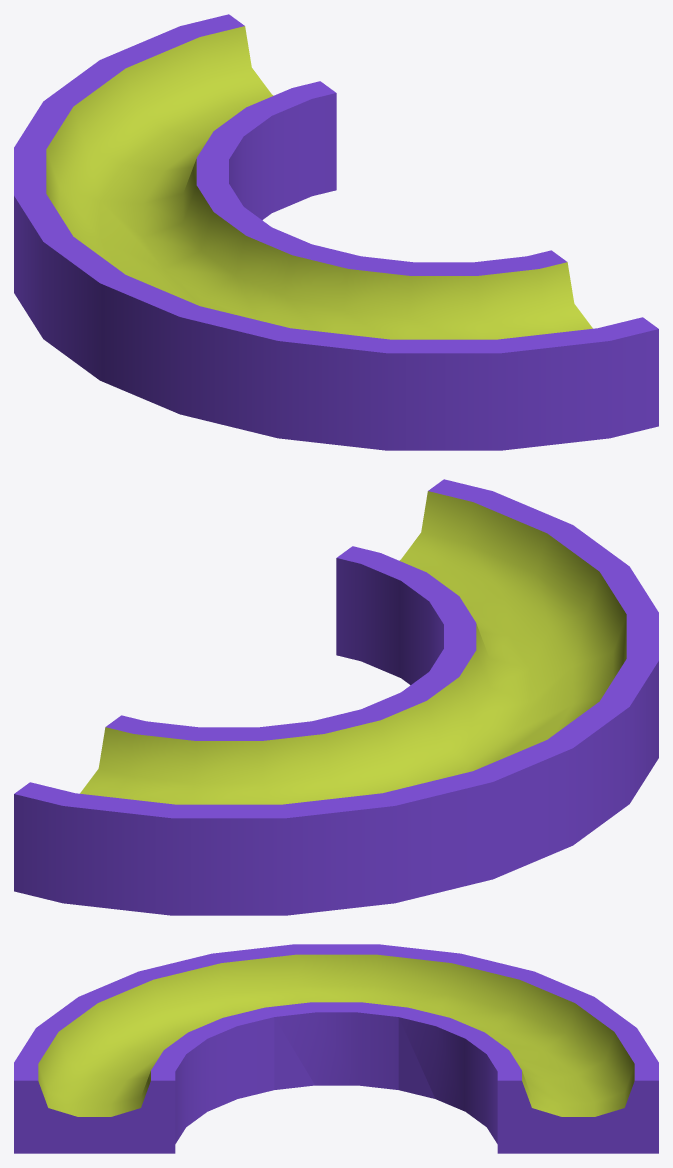
File: bend_medium-col.dae
3 renders of one model, top to bottom at view 1: azimuth 30°, elevation 25°; view 2: azimuth 150°, elevation 25°; view 3: azimuth 270°, elevation 25°, orthographic. The views are drawn at different scales.
Visible parts, largest first — view 1: bend_medium-col; view 2: bend_medium-col; view 3: bend_medium-col.
Part boxes in pixels (box(x1,y1,x2,y2)): bend_medium-col: box(14, 14, 658, 450); bend_medium-col: box(14, 479, 658, 915); bend_medium-col: box(14, 944, 658, 1153).
Size of the model in its own units: 2 by 4 by 0.5.
